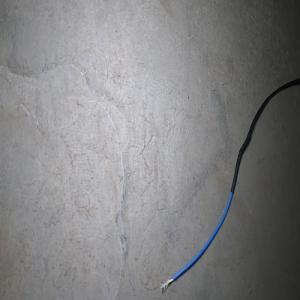Wire: (159, 77, 300, 293)
